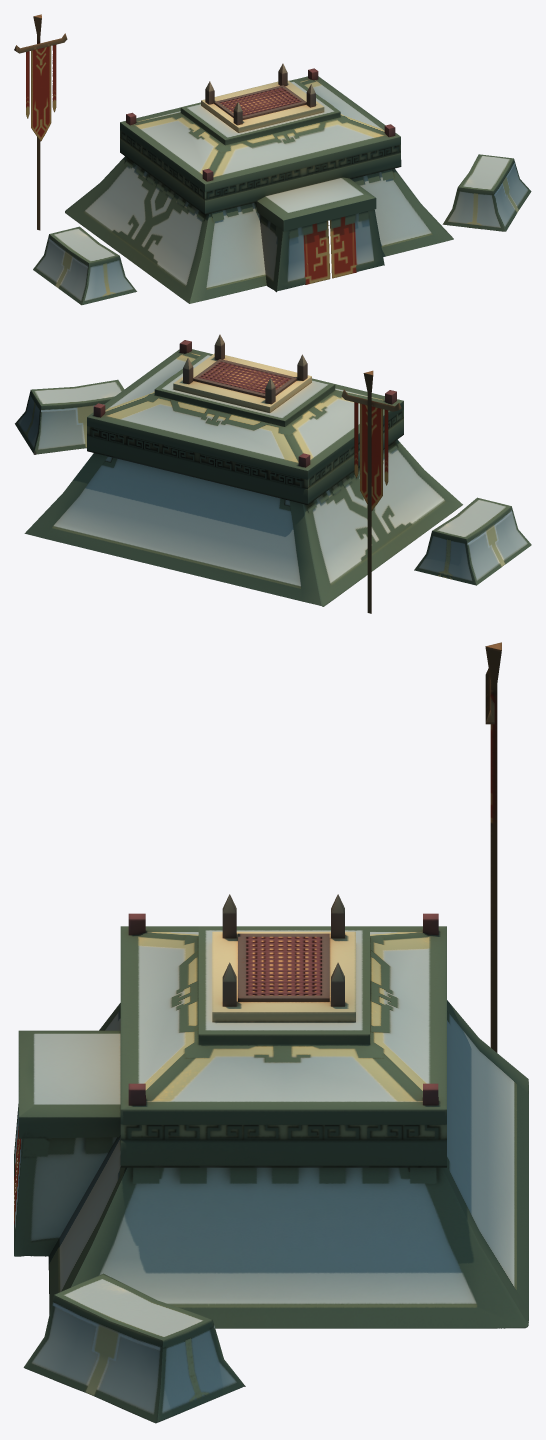
The model's file is xingjunying_01.FBX.
3 views of the same model, one above another, from view 1: azimuth 30°, elevation 25°; view 2: azimuth 150°, elevation 25°; view 3: azimuth 270°, elevation 25° (orthographic). The views are drawn at different scales.
Visible parts, largest first — view 1: Sce_wm_xingjunying; view 2: Sce_wm_xingjunying; view 3: Sce_wm_xingjunying.
Part boxes in pixels (x1,y1,x2,y2): Sce_wm_xingjunying: [14, 14, 531, 305]; Sce_wm_xingjunying: [15, 334, 531, 613]; Sce_wm_xingjunying: [14, 642, 528, 1423].
Size of the model in its own units: 75.15 by 33.64 by 38.69.
Materials: 1 (1 with a texture image).
